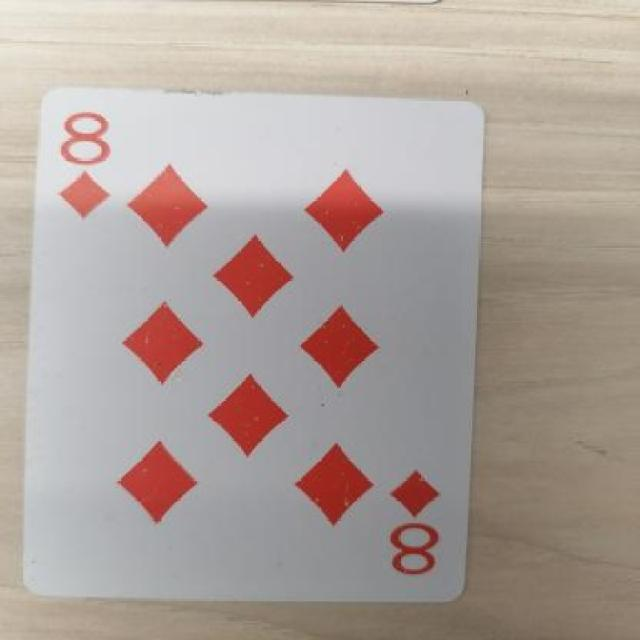8D: (39, 91, 144, 231), (370, 451, 459, 589)
